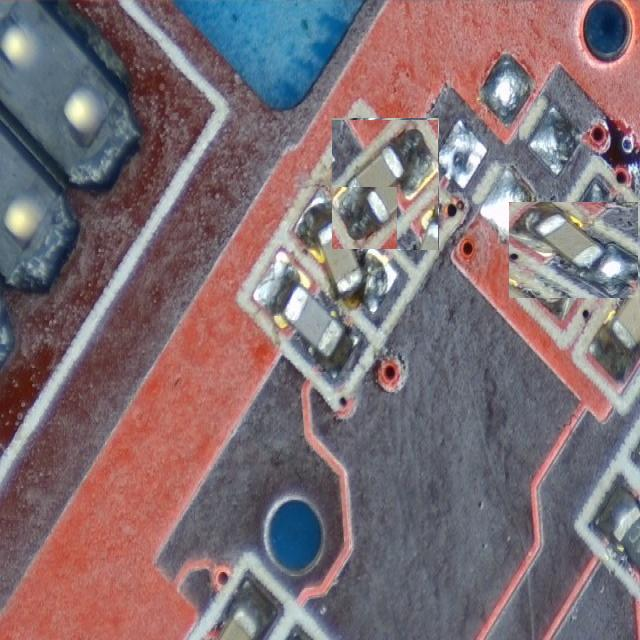Incorrect_installation: (333, 119, 437, 250), (292, 188, 397, 313), (509, 203, 639, 297)
